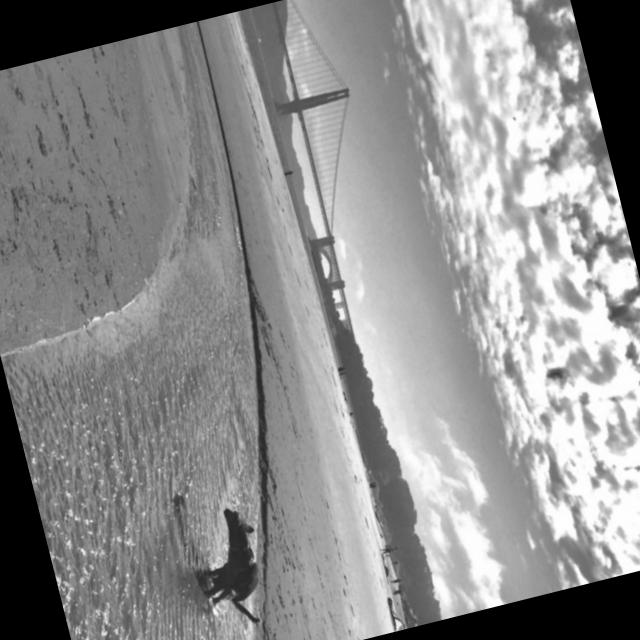squatting: (181, 491, 281, 640)
